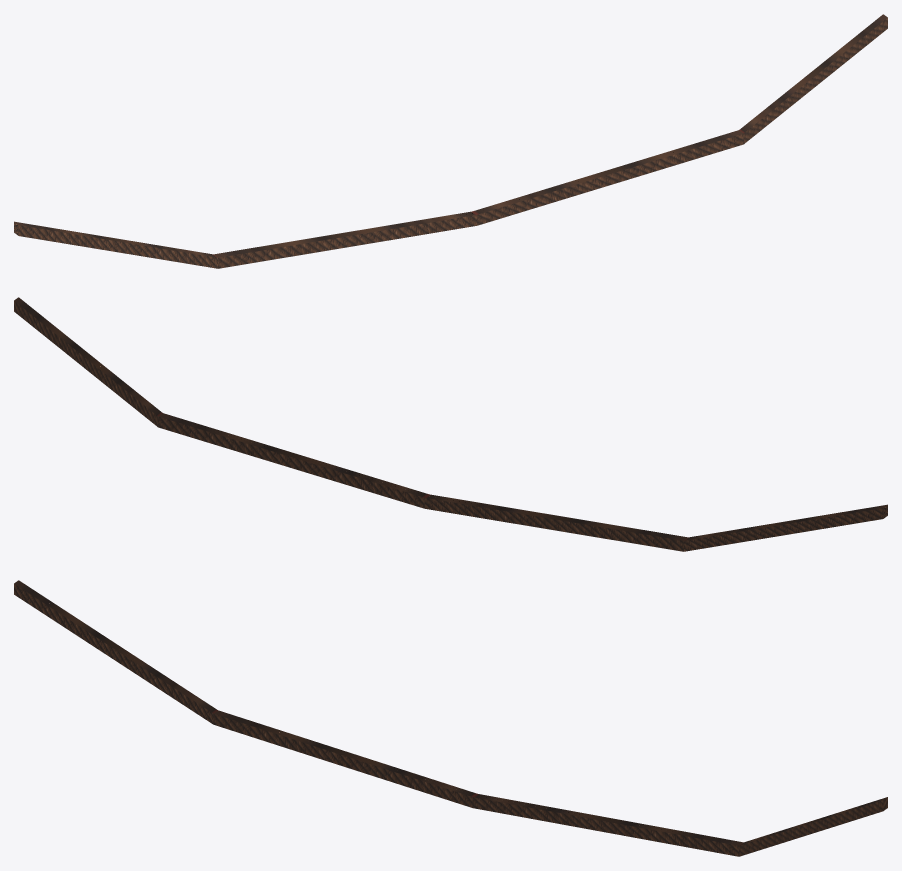
The model's file is polygonalmind-lunar-year-039.glb.
The picture shows the model from 3 angles, top to bottom: view 1: azimuth 30°, elevation 25°; view 2: azimuth 150°, elevation 25°; view 3: azimuth 330°, elevation 25°; orthographic projection.
Visible parts, largest first — view 1: RobeWreath; view 2: RobeWreath; view 3: RobeWreath.
Boxes of the visible parts, bbox=[...] form: RobeWreath: bbox=[14, 14, 887, 268]; RobeWreath: bbox=[14, 297, 887, 551]; RobeWreath: bbox=[14, 580, 887, 856].
Size of the model in its own units: 6.66 by 0.8246 by 0.0621.
1 material, 1 textured.
